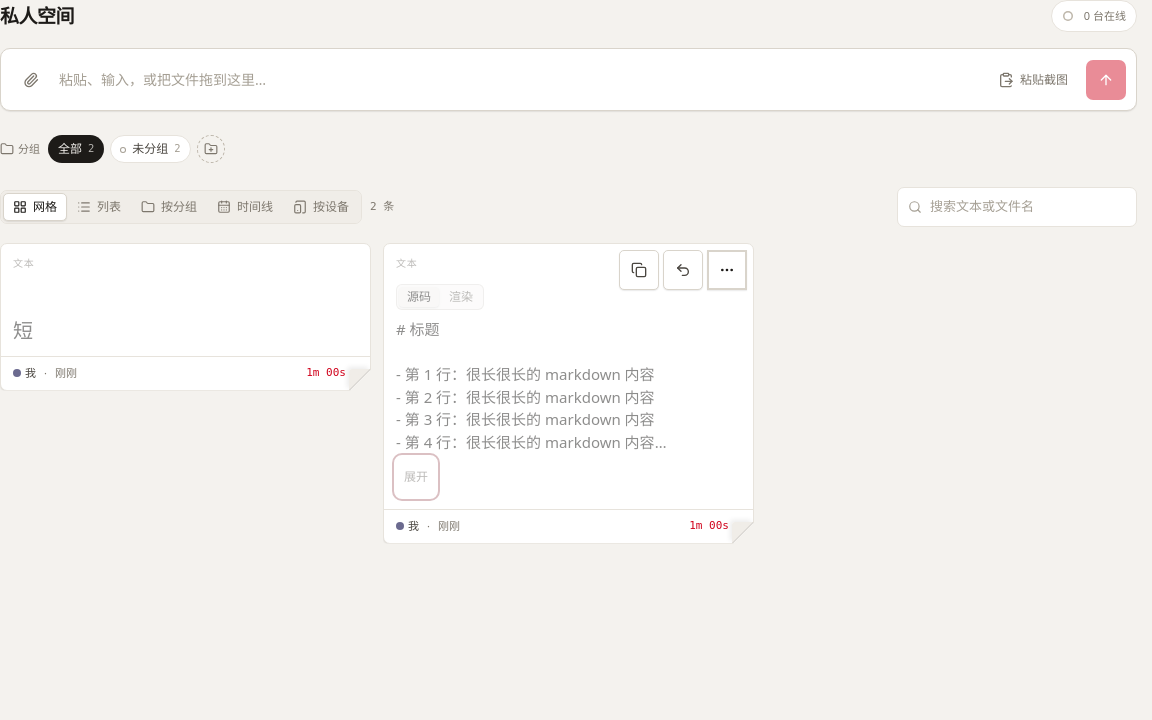
RHEA-190 lt2: long text reader › opens the full text in a blurred dialog from 展开, closes on Esc and returns focus
Click the button "展开".
click(416, 477)  # box [396,457,436,497]
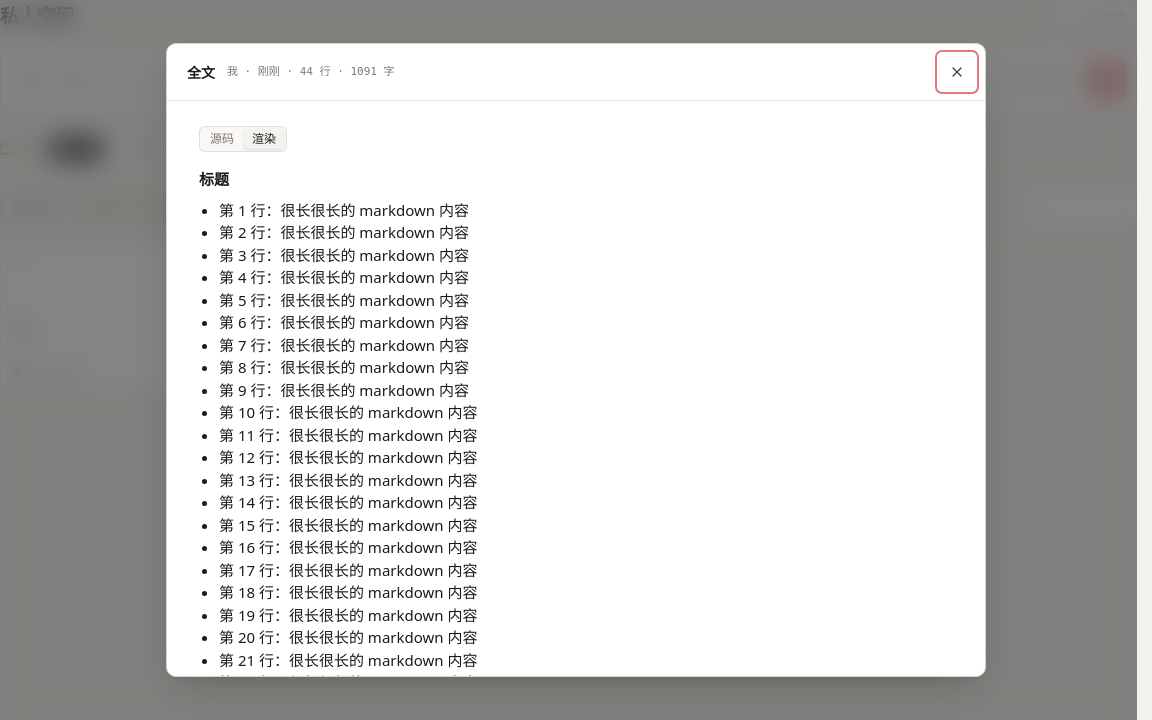
Press Escape
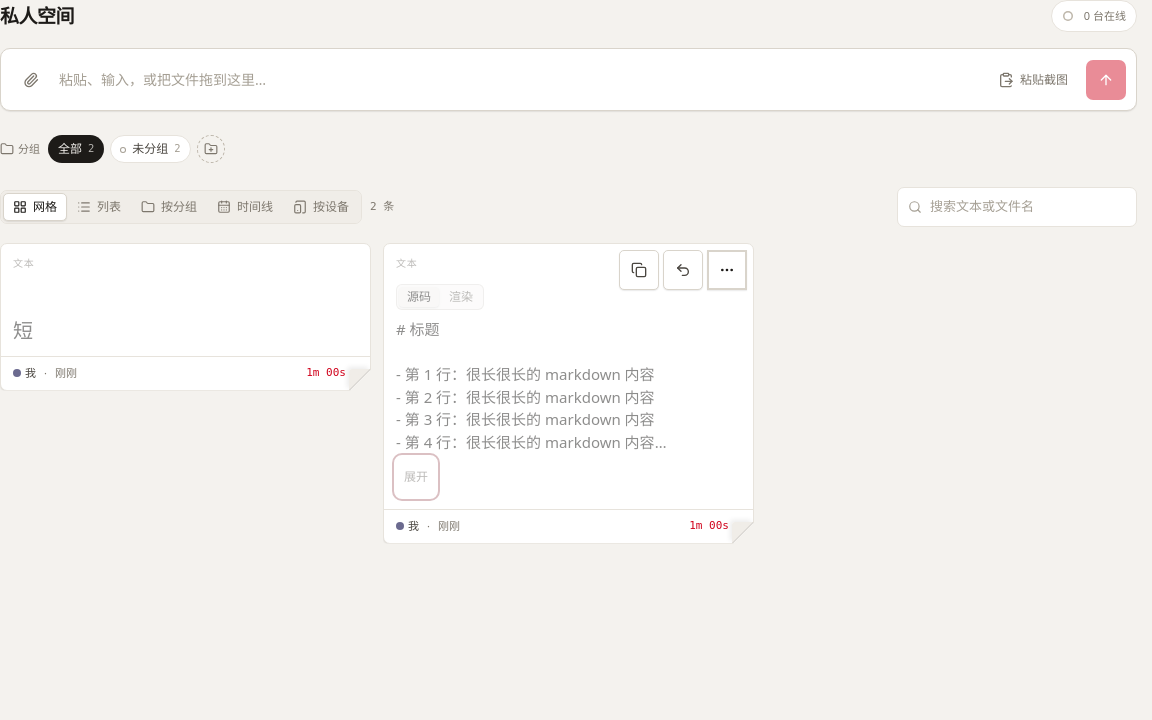
Expected: the heading "全文" is gone
